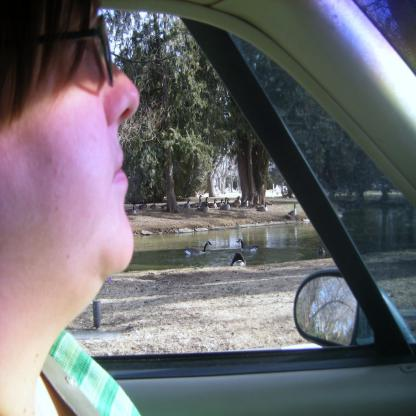Car: (1, 0, 414, 416)
